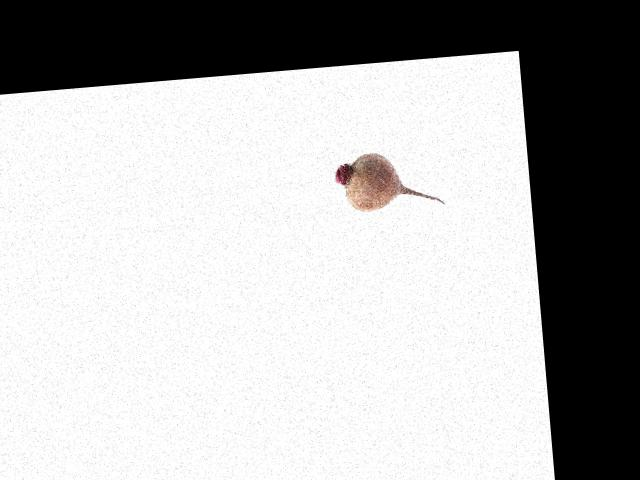beet: (333, 145, 444, 213)
